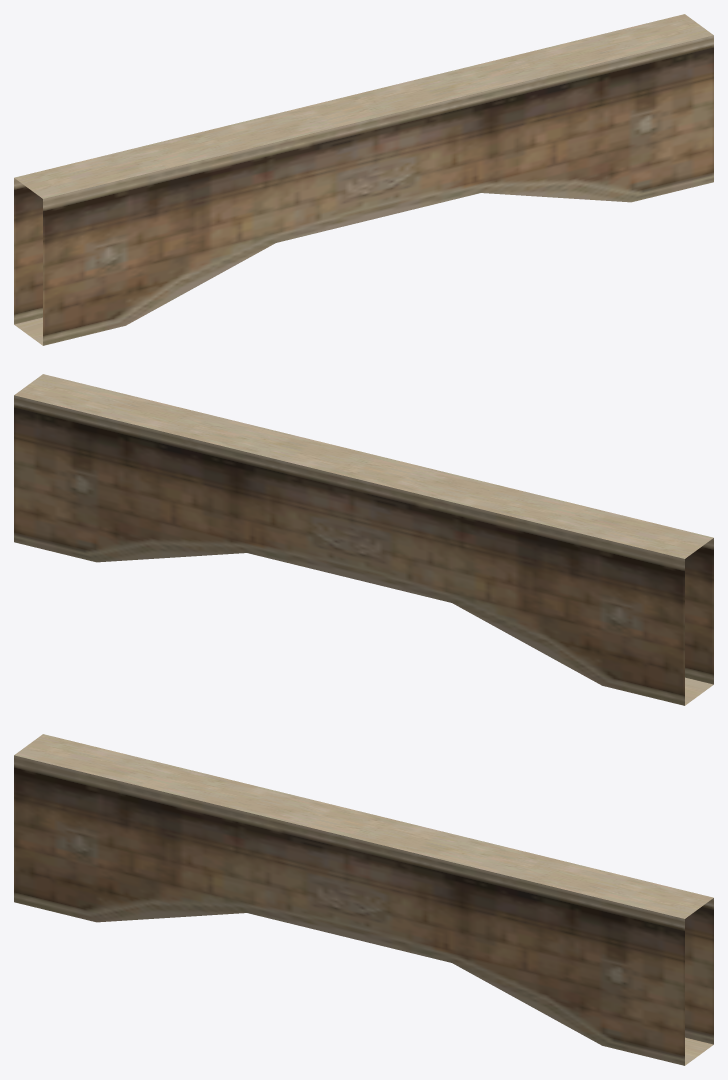
File: thm_nboo_imprv_archway_wide_s02_l2.fbx
3 views of the same model, one above another, from view 1: azimuth 30°, elevation 25°; view 2: azimuth 150°, elevation 25°; view 3: azimuth 330°, elevation 25° (orthographic).
Parts seen in each view (by area): view 1: mesh_node; view 2: mesh_node; view 3: mesh_node.
Part boxes in pixels (x1=…): mesh_node: x1=14, y1=14, x2=713, y2=345; mesh_node: x1=14, y1=374, x2=713, y2=705; mesh_node: x1=14, y1=734, x2=713, y2=1065.
Bounding box in the file's own units: 16 × 3.35 × 1.2.
